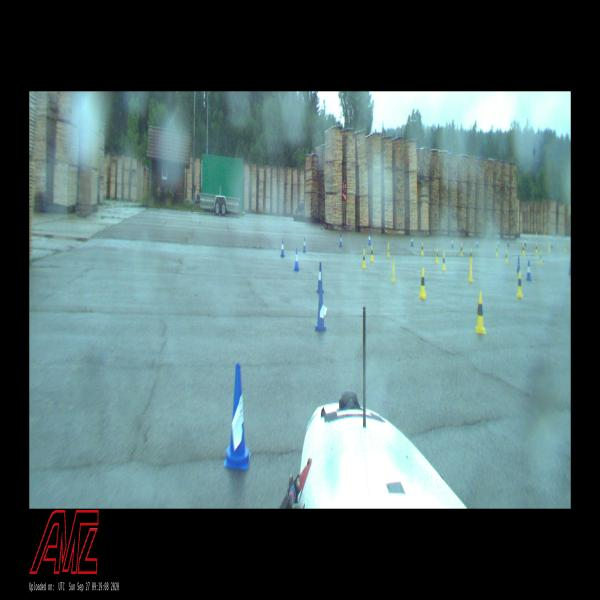blue_cone: (224, 363, 251, 469), (315, 294, 327, 331), (317, 263, 324, 293), (293, 248, 300, 270), (526, 261, 531, 280), (280, 239, 285, 257), (516, 254, 521, 272), (338, 233, 342, 246), (568, 258, 571, 275), (303, 237, 306, 252), (476, 236, 479, 248), (451, 237, 454, 248), (507, 236, 510, 247), (524, 238, 527, 246), (368, 233, 370, 244), (411, 236, 413, 245), (498, 238, 499, 248)
yellow_cone: (474, 291, 486, 333), (418, 268, 427, 298), (516, 270, 524, 296), (468, 258, 474, 281), (391, 260, 396, 281), (361, 249, 366, 268), (370, 245, 374, 262), (504, 249, 508, 264), (386, 243, 390, 257), (468, 248, 472, 262), (442, 252, 445, 270), (495, 245, 499, 258), (459, 244, 463, 256), (435, 248, 438, 263), (421, 242, 424, 255), (539, 251, 542, 264), (522, 244, 525, 255), (535, 244, 538, 253), (548, 244, 550, 252)
